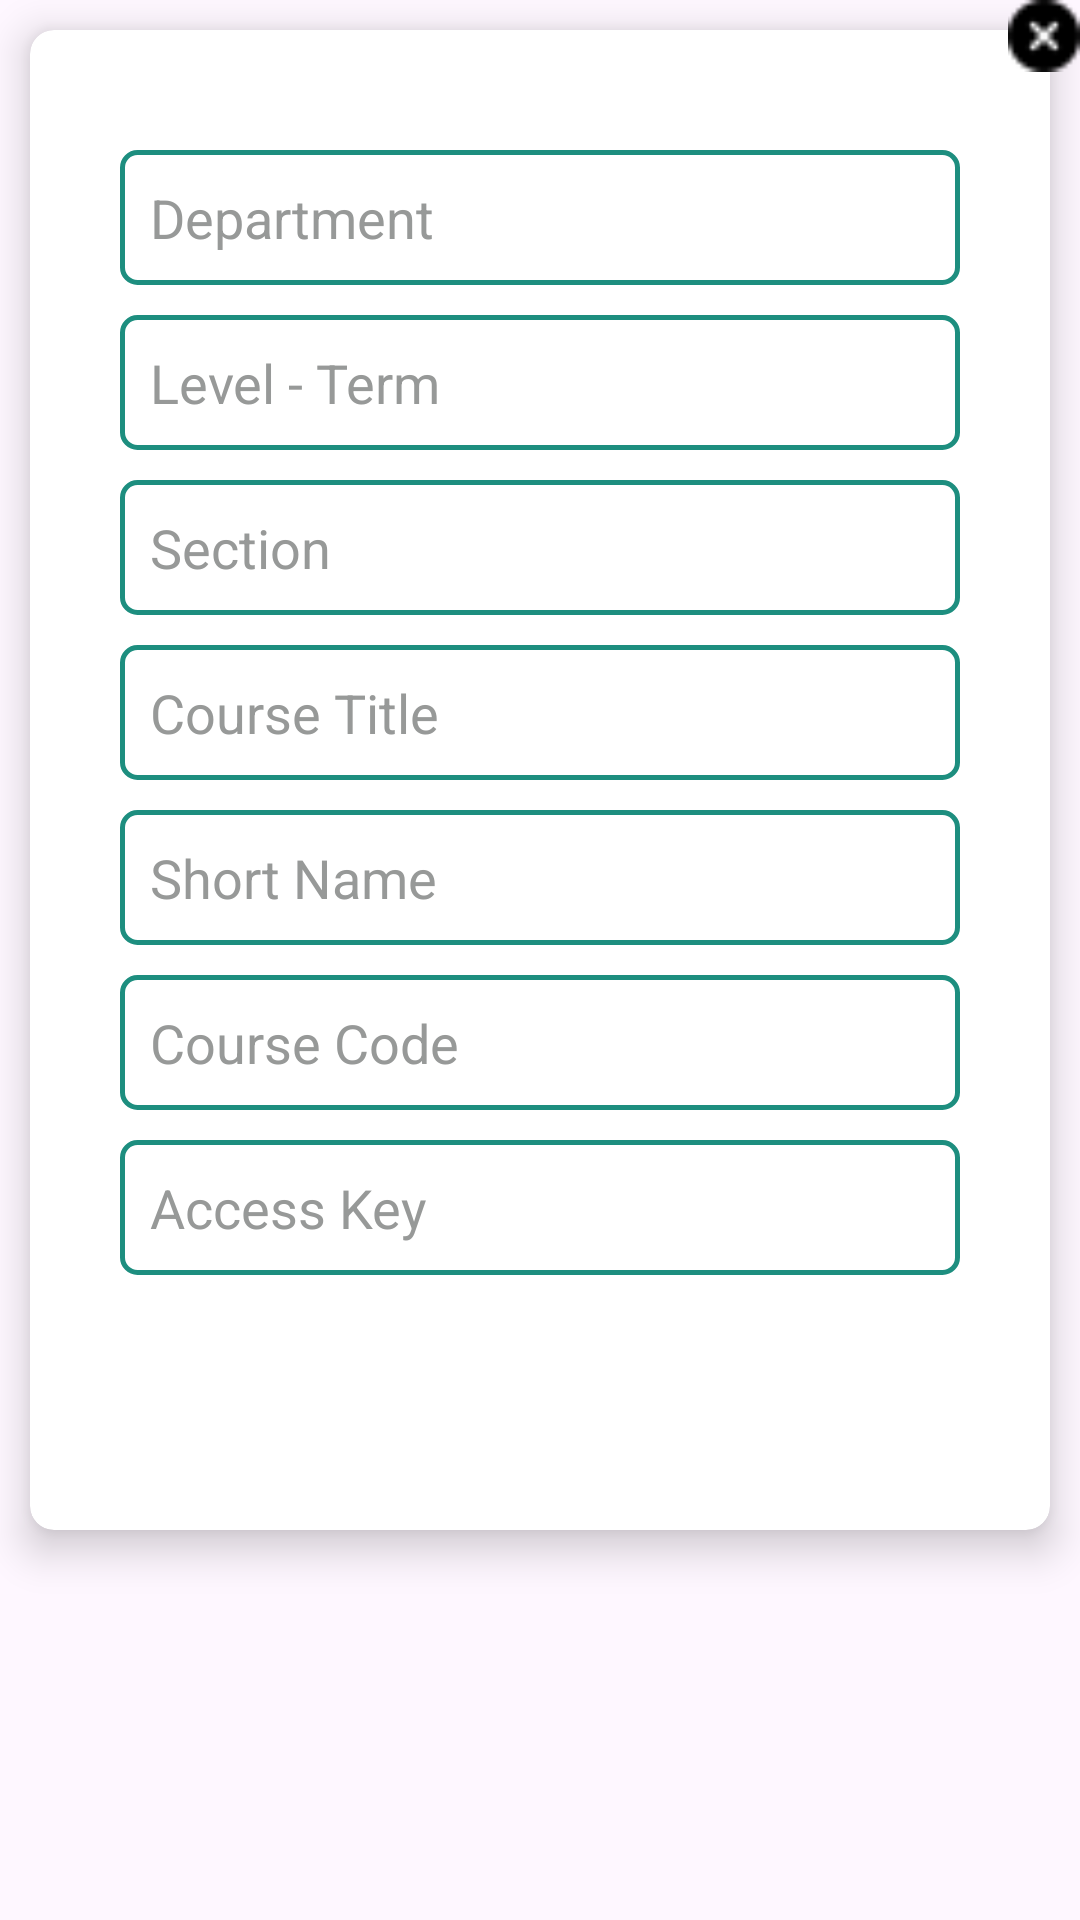

Icons on this 1080px x 1920px Android screen, each with its box as (left=x1, top=y1, right=x2, bottom=y2):
cross: (left=1008, top=0, right=1080, bottom=72)
